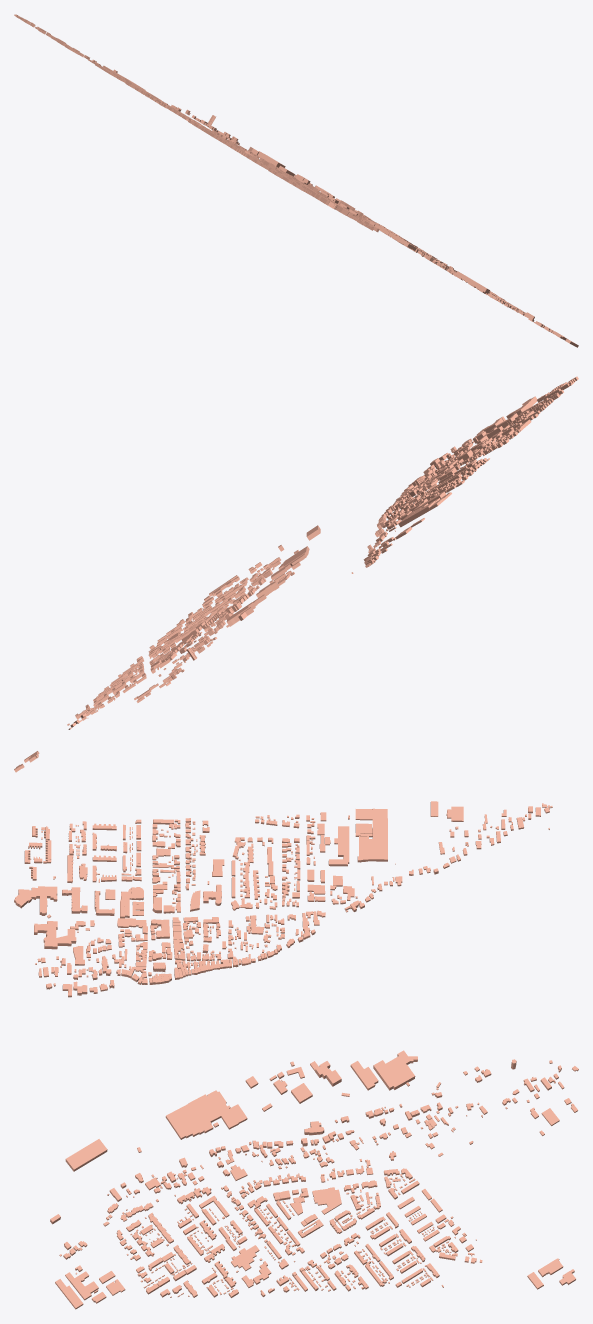
The picture shows the model from 3 angles, top to bottom: view 1: azimuth 30°, elevation 25°; view 2: azimuth 150°, elevation 25°; view 3: azimuth 270°, elevation 25°; orthographic projection. The views are drawn at different scales.
Size of the model in its own units: 1060 by 769 by 1266.
